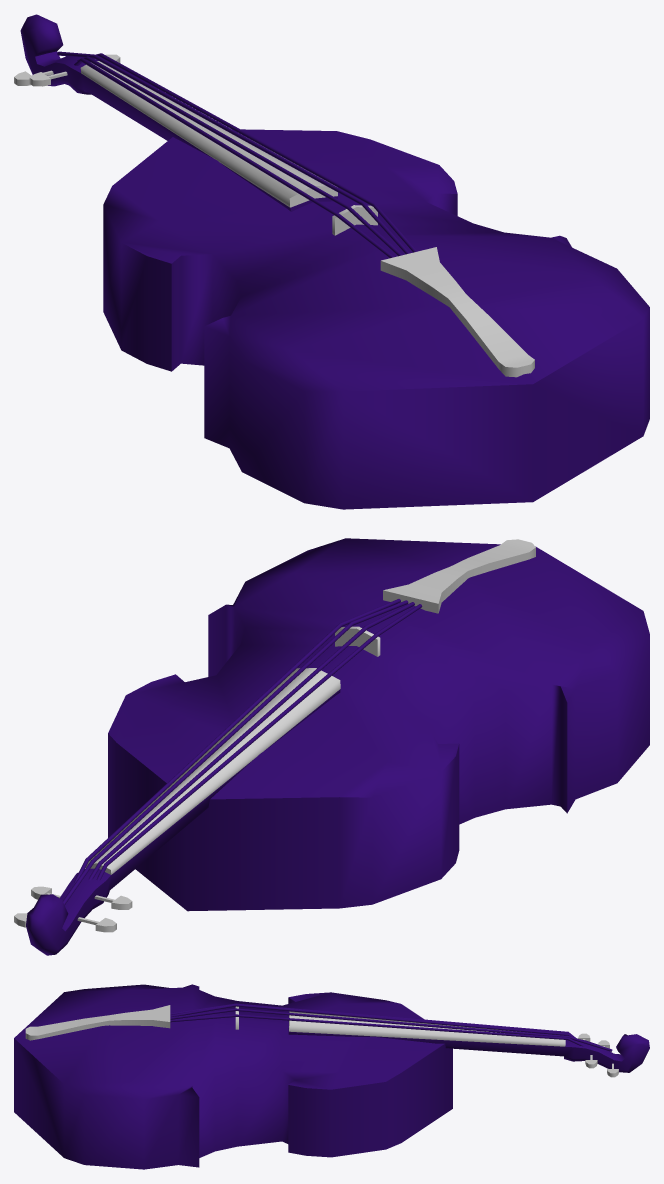
File: cello.fbx
The picture shows the model from 3 angles, top to bottom: view 1: azimuth 30°, elevation 25°; view 2: azimuth 150°, elevation 25°; view 3: azimuth 270°, elevation 25°; orthographic projection. The views are drawn at different scales.
Parts seen in each view (by area): view 1: Cello, HEAD, BOTTOM, String_2, String, String_4, String_3; view 2: Cello, HEAD, BOTTOM, String_2, String_3, String, String_4, STEG; view 3: Cello, HEAD, BOTTOM, String_2, String, String_3, String_4.
Part boxes in pixels (x1=…): Cello: x1=103, y1=129, x2=649, y2=509; HEAD: x1=20, y1=14, x2=337, y2=211; BOTTOM: x1=380, y1=247, x2=534, y2=377; String_2: x1=57, y1=51, x2=409, y2=254; String: x1=92, y1=53, x2=417, y2=252; String_4: x1=74, y1=57, x2=394, y2=258; String_3: x1=77, y1=56, x2=402, y2=256; Cello: x1=108, y1=538, x2=649, y2=911; HEAD: x1=26, y1=668, x2=340, y2=955; BOTTOM: x1=383, y1=539, x2=535, y2=613; String_2: x1=63, y1=600, x2=408, y2=905; String_3: x1=88, y1=602, x2=414, y2=880; String: x1=74, y1=599, x2=400, y2=882; String_4: x1=96, y1=604, x2=422, y2=880; STEG: x1=335, y1=626, x2=380, y2=656; Cello: x1=14, y1=984, x2=452, y2=1169; HEAD: x1=288, y1=1011, x2=649, y2=1072; BOTTOM: x1=25, y1=1005, x2=170, y2=1040; String_2: x1=170, y1=1008, x2=612, y2=1051; String: x1=170, y1=1014, x2=585, y2=1046; String_3: x1=170, y1=1004, x2=576, y2=1038; String_4: x1=170, y1=1003, x2=574, y2=1036.
Size of the model in its own units: 309 by 133 by 723.
